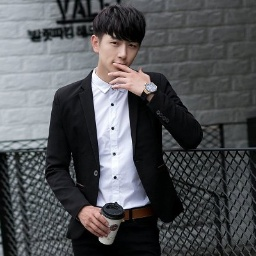face: (90, 5, 148, 75)
